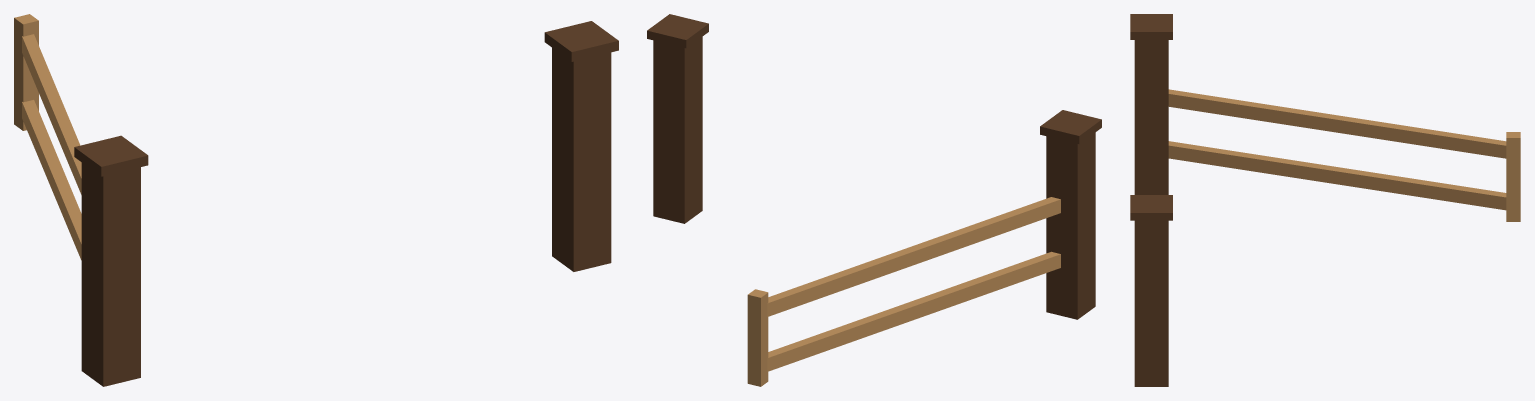
Rendered from fence_gate.glb.
3 renders of one model, left to right at view 1: azimuth 30°, elevation 25°; view 2: azimuth 150°, elevation 25°; view 3: azimuth 270°, elevation 25°, orthographic. The views are drawn at different scales.
Visible parts, largest first — view 1: fence_gate.001; view 2: fence_gate.001; view 3: fence_gate.001.
Boxes of the visible parts, x1,y1,x2,y2 form: fence_gate.001: [14, 14, 618, 386]; fence_gate.001: [647, 14, 1101, 386]; fence_gate.001: [1130, 14, 1520, 386].
Size of the model in its own units: 3.3 by 1.36 by 2.74.
1 material, 1 textured.
